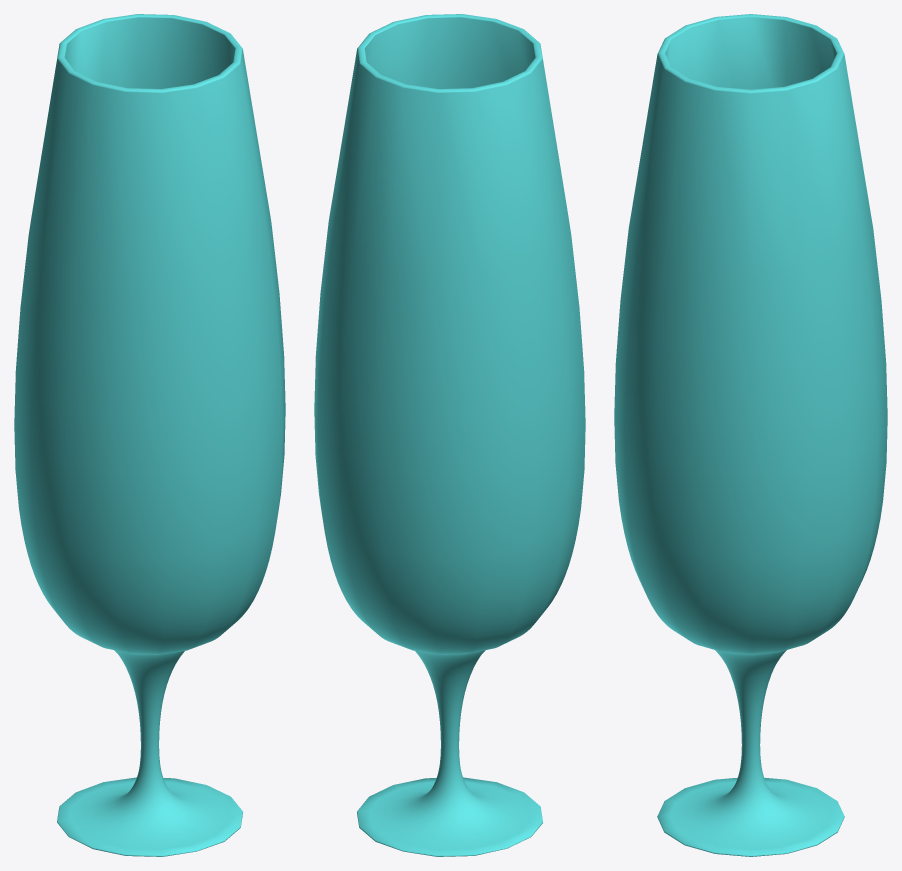
File: Collection_4.fbx
The picture shows the model from 3 angles, left to right: view 1: azimuth 30°, elevation 25°; view 2: azimuth 150°, elevation 25°; view 3: azimuth 270°, elevation 25°; orthographic projection.
Parts seen in each view (by area): view 1: KitchenGlasses.004; view 2: KitchenGlasses.004; view 3: KitchenGlasses.004.
Boxes of the visible parts, bbox=[...] form: KitchenGlasses.004: bbox=[14, 14, 285, 856]; KitchenGlasses.004: bbox=[314, 14, 585, 856]; KitchenGlasses.004: bbox=[614, 14, 887, 856].
Size of the model in its own units: 0.0527 by 0.1626 by 0.0527.
